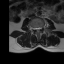CCS_normal: (36, 26, 38, 34)
LFS_normal: (40, 25, 42, 31)
LLS_normal: (38, 26, 40, 31)
RFS_normal: (33, 26, 35, 31)
RLS_normal: (35, 26, 36, 32)
